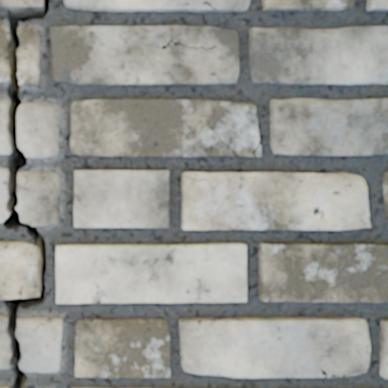brick: (179, 317, 368, 377), (56, 243, 245, 302), (50, 26, 238, 84), (70, 99, 258, 156), (182, 172, 369, 229), (249, 26, 387, 84), (259, 243, 387, 301), (271, 99, 387, 155), (75, 318, 169, 376), (74, 170, 168, 227), (0, 242, 39, 298), (64, 0, 211, 11), (263, 0, 353, 10), (208, 0, 248, 11), (380, 319, 387, 378), (0, 0, 42, 8), (367, 0, 387, 10), (383, 172, 387, 218), (256, 149, 260, 156)
broken_brick: (17, 316, 62, 373), (17, 170, 60, 227), (18, 101, 60, 158), (18, 26, 40, 85), (0, 313, 10, 369), (0, 99, 9, 155), (0, 23, 8, 82), (0, 167, 6, 223), (0, 385, 11, 387)
crack: (1, 0, 50, 387), (205, 119, 237, 157), (319, 368, 346, 378), (202, 0, 217, 10), (251, 141, 260, 157), (365, 343, 369, 354)
